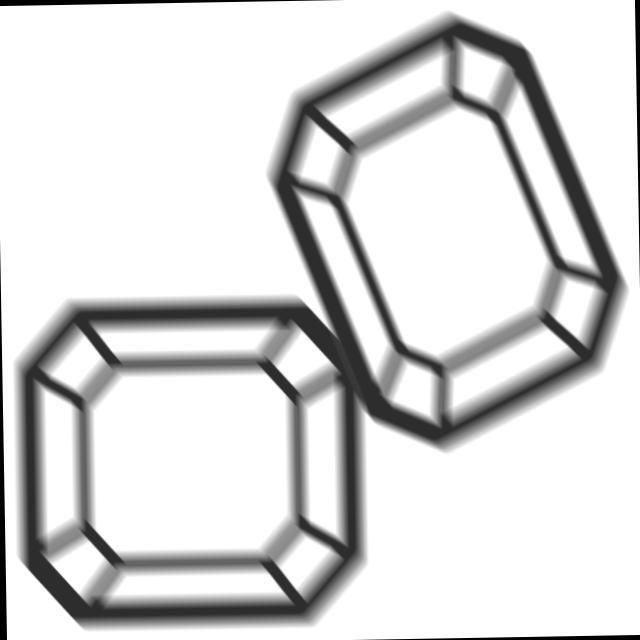emerald: (259, 3, 640, 465), (7, 284, 379, 638)
